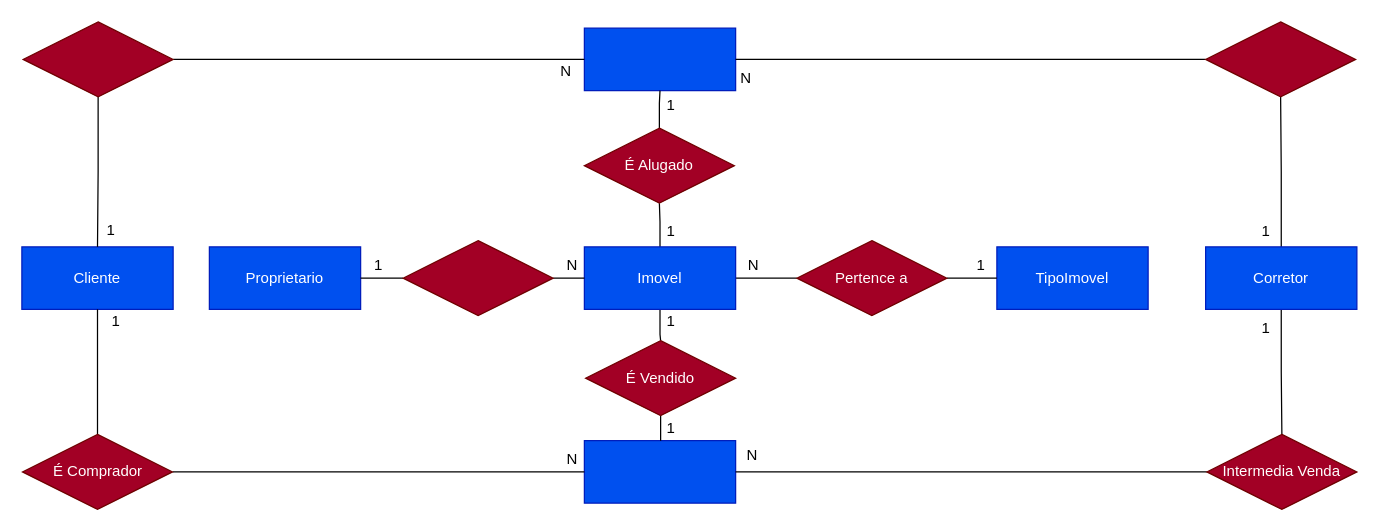
Image size: 1379x531. Some labels were removed from this diagram. The centre of each missing label's shape, as x and y in pixels:
"Intermedia Locação" goes at pixel 1280 59.
"Locacao" goes at pixel 659 59.
"Possui" goes at pixel 477 277.
"Venda" goes at pixel 659 471.
"É Locatário" goes at pixel 97 59.
